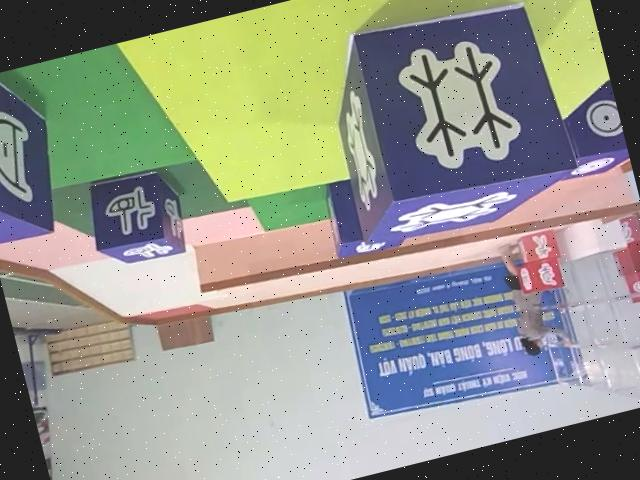R2 Real Blue: (314, 0, 588, 253), (0, 64, 73, 248), (81, 161, 194, 271), (552, 80, 632, 182)
